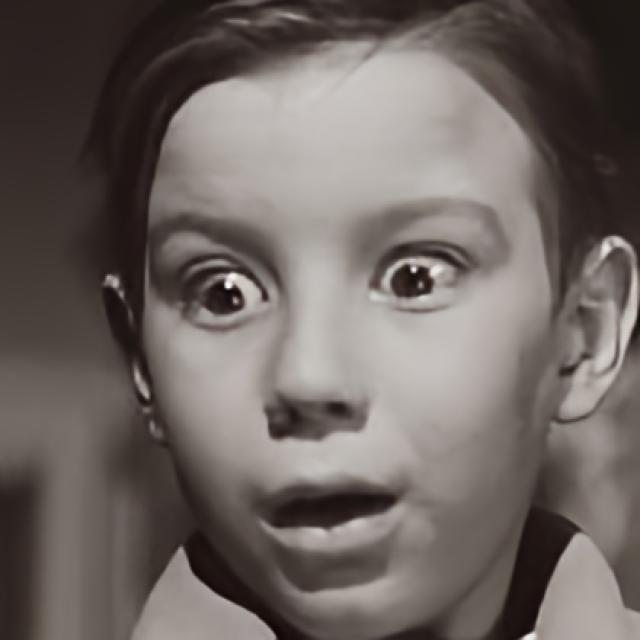surprise: (147, 36, 548, 638)
